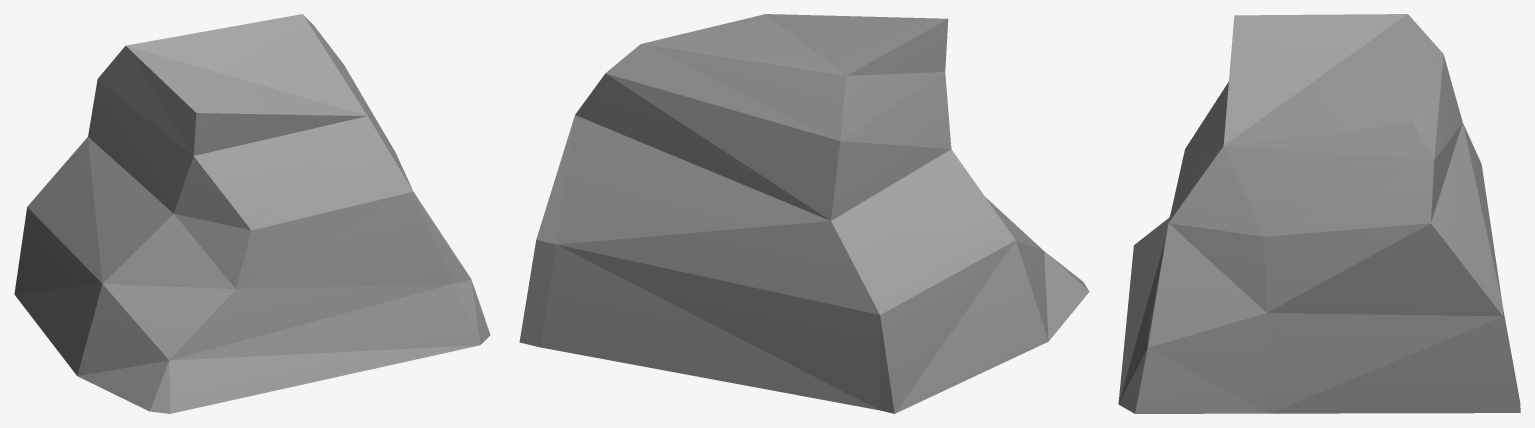
Rendered from stone-small-6.glb.
3 views of the same model, side by side, from view 1: azimuth 30°, elevation 25°; view 2: azimuth 150°, elevation 25°; view 3: azimuth 270°, elevation 25° (orthographic). The views are drawn at different scales.
Visible parts, largest first — view 1: stone small 6; view 2: stone small 6; view 3: stone small 6.
Boxes of the visible parts, x1,y1,x2,y2 form: stone small 6: (14, 14, 490, 413); stone small 6: (519, 14, 1089, 413); stone small 6: (1118, 14, 1520, 413).
Bounding box in the file's own units: 0.804 × 0.5567 × 0.7386.
Materials: 1 (1 with a texture image).
